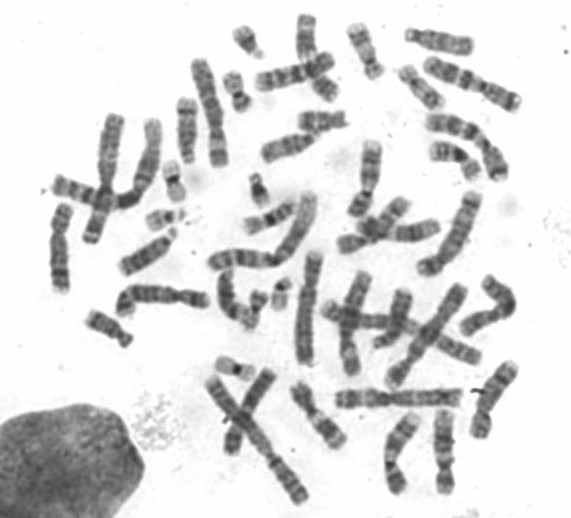chromosomes: (198, 376, 312, 511), (315, 298, 484, 377), (52, 116, 163, 217), (199, 189, 324, 273), (383, 280, 473, 391), (76, 113, 132, 251), (407, 188, 485, 285), (420, 112, 517, 189), (421, 53, 530, 121), (217, 364, 278, 463), (284, 375, 356, 455), (329, 196, 417, 260), (293, 9, 346, 110), (188, 57, 233, 173), (466, 357, 522, 444), (457, 272, 527, 339), (338, 271, 380, 379), (289, 249, 324, 371), (250, 49, 339, 96), (327, 385, 467, 413), (378, 413, 422, 500), (346, 133, 388, 222), (113, 282, 211, 320), (116, 229, 185, 279), (351, 211, 448, 246), (368, 286, 418, 353), (431, 408, 463, 500), (236, 196, 302, 240), (425, 141, 489, 185), (45, 200, 74, 297), (214, 261, 255, 327), (394, 62, 448, 112), (402, 23, 478, 58), (348, 19, 388, 82), (257, 131, 323, 166), (83, 310, 140, 350), (292, 105, 357, 137), (229, 18, 271, 65), (139, 206, 194, 240), (221, 71, 258, 118), (175, 94, 199, 166), (240, 287, 274, 336), (241, 170, 276, 216), (211, 350, 259, 383), (156, 160, 189, 204), (269, 276, 296, 314)
